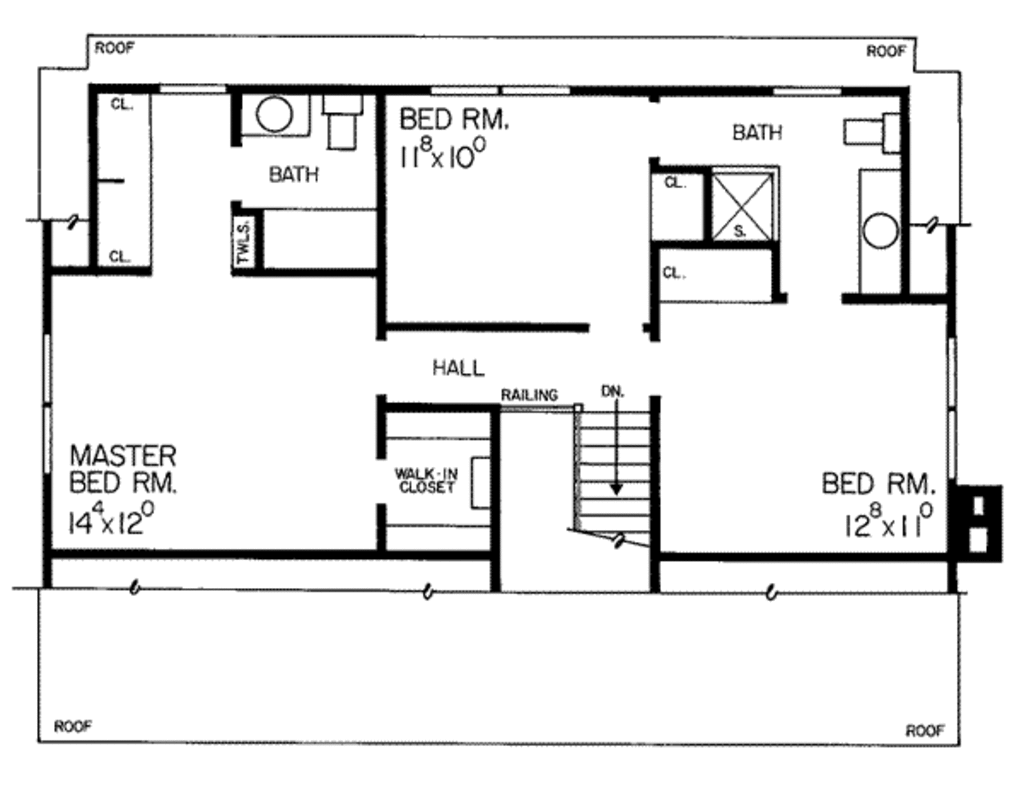large_sink: (830, 102, 904, 162), (314, 87, 374, 153)
small_sink: (853, 164, 904, 295), (234, 94, 311, 140)
stairs: (569, 382, 658, 589)
windows: (36, 324, 57, 484), (942, 330, 963, 481), (425, 82, 571, 98), (154, 75, 230, 98), (767, 82, 846, 102)
